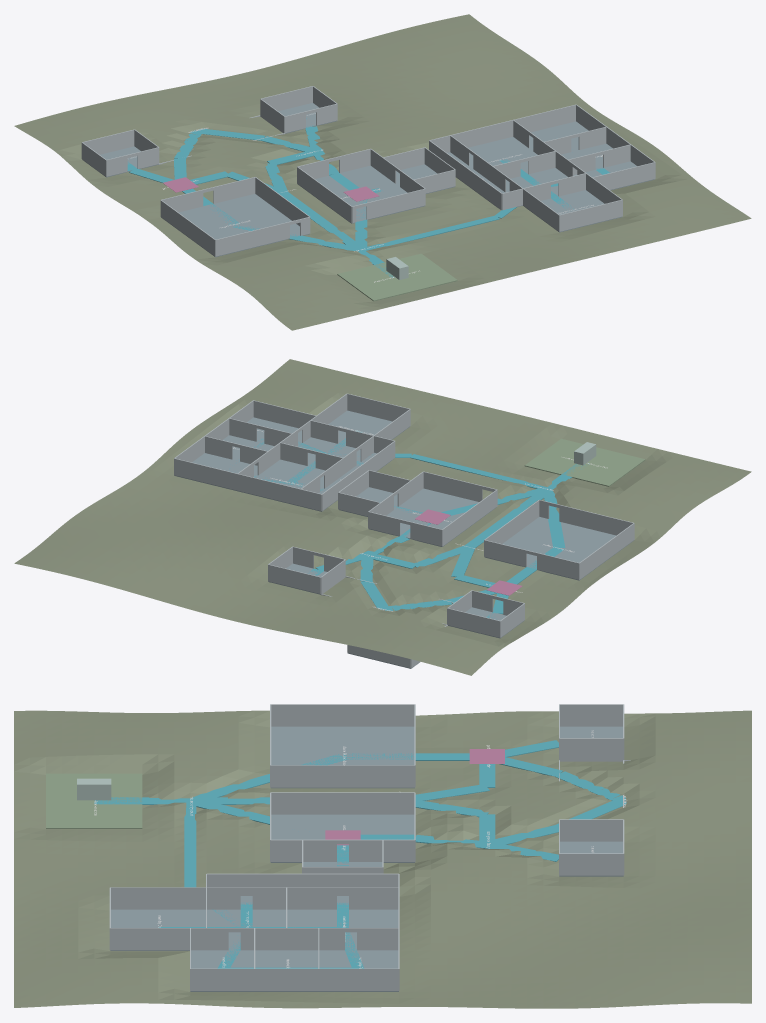
Rendered from rough-shell.glb.
3 renders of one model, top to bottom at view 1: azimuth 30°, elevation 25°; view 2: azimuth 150°, elevation 25°; view 3: azimuth 270°, elevation 25°, orthographic. The views are drawn at different scales.
Visible parts, largest first — view 1: Authored cemetery terrain, Floor chapel, Floor stage, Floor cottage, Wall chapel S, Floor mort-viewing, Wall mort-bay S, Wall mort-hall W, Wall cottage S.001, Wall chapel W, Wall cottage W, Floor mort-bay (+17 smaller); view 2: Authored cemetery terrain, Floor stage, Floor chapel, Floor cottage, Floor mort-viewing, Wall chapel S, Wall mort-prep N, Wall mort-viewing N, Wall mort-hall W, Wall cottage S.001, Floor mort-bay, Wall chapel W (+19 smaller); view 3: Authored cemetery terrain, Floor chapel, Floor stage, Wall chapel E, Wall chapel W, Wall cottage W, Floor cottage, Wall mort-hall W, Wall mort-bay W, Floor mort-viewing, Wall mort-bay E, Wall mort-prep E (+34 smaller).
Boxes of the visible parts, x1=… form: Authored cemetery terrain: x1=14, y1=14, x2=751, y2=330; Floor chapel: x1=161, y1=194, x2=309, y2=257; Floor stage: x1=337, y1=253, x2=457, y2=301; Floor cottage: x1=297, y1=165, x2=424, y2=223; Wall chapel S: x1=215, y1=221, x2=289, y2=256; Floor mort-viewing: x1=468, y1=137, x2=537, y2=173; Wall mort-bay S: x1=559, y1=200, x2=622, y2=231; Wall mort-hall W: x1=429, y1=140, x2=501, y2=210; Wall cottage S.001: x1=366, y1=188, x2=425, y2=219; Wall chapel W: x1=160, y1=200, x2=215, y2=256; Wall cottage W: x1=297, y1=167, x2=351, y2=223; Floor mort-bay: x1=523, y1=190, x2=621, y2=232; Authored cemetery terrain: x1=14, y1=359, x2=751, y2=675; Floor stage: x1=524, y1=438, x2=645, y2=486; Floor chapel: x1=484, y1=517, x2=634, y2=580; Floor cottage: x1=369, y1=488, x2=496, y2=546; Floor mort-viewing: x1=238, y1=459, x2=325, y2=506; Wall chapel S: x1=559, y1=505, x2=633, y2=535; Wall mort-prep N: x1=174, y1=458, x2=237, y2=490; Wall mort-viewing N: x1=237, y1=474, x2=300, y2=505; Wall mort-hall W: x1=322, y1=441, x2=395, y2=510; Wall cottage S.001: x1=423, y1=471, x2=482, y2=501; Floor mort-bay: x1=328, y1=410, x2=409, y2=445; Wall chapel W: x1=579, y1=523, x2=634, y2=579; Authored cemetery terrain: x1=14, y1=710, x2=751, y2=1008; Floor chapel: x1=271, y1=726, x2=414, y2=788; Floor stage: x1=46, y1=773, x2=142, y2=828; Wall chapel E: x1=270, y1=765, x2=414, y2=787; Wall chapel W: x1=271, y1=704, x2=414, y2=726; Wall cottage W: x1=271, y1=792, x2=414, y2=814; Floor cottage: x1=270, y1=814, x2=414, y2=862; Wall mort-hall W: x1=207, y1=873, x2=398, y2=895; Wall mort-bay W: x1=110, y1=887, x2=205, y2=909; Floor mort-viewing: x1=287, y1=909, x2=398, y2=949; Wall mort-bay E: x1=110, y1=928, x2=206, y2=950; Wall mort-prep E: x1=318, y1=968, x2=398, y2=990.
Size of the model in its own units: 87.8 by 6.16 by 92.
